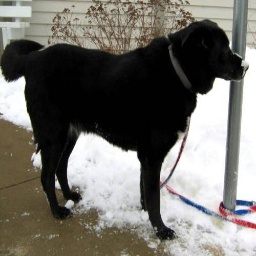dog: (5, 17, 256, 237)
